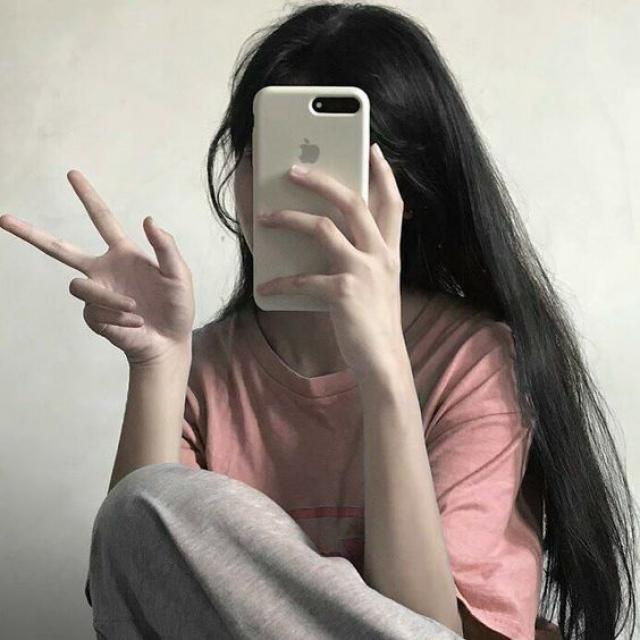phone: (252, 87, 370, 310)
